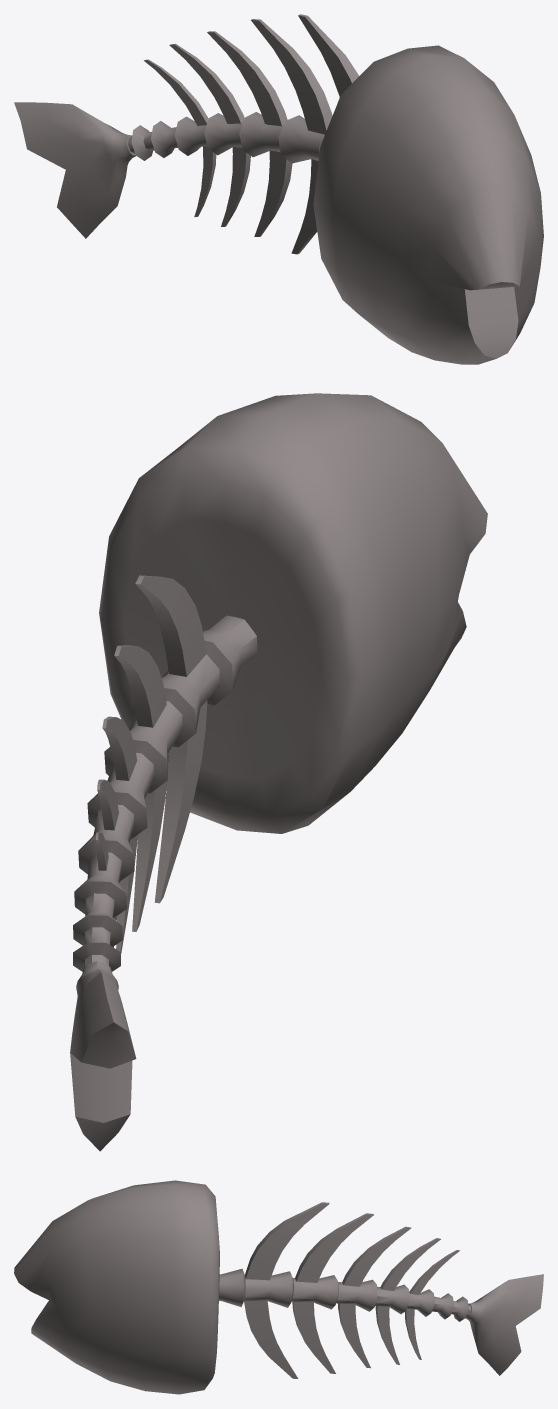
The model's file is Pez_03.fbx.
3 renders of one model, top to bottom at view 1: azimuth 30°, elevation 25°; view 2: azimuth 150°, elevation 25°; view 3: azimuth 270°, elevation 25°, orthographic. The views are drawn at different scales.
Visible parts, largest first — view 1: Pez_03; view 2: Pez_03; view 3: Pez_03.
Boxes of the visible parts, box(x1,y1,x2,y2) form: Pez_03: box(14, 14, 543, 364); Pez_03: box(70, 393, 487, 1151); Pez_03: box(14, 1180, 543, 1394).
Bounding box in the file's own units: 39.77 × 49.84 × 104.
